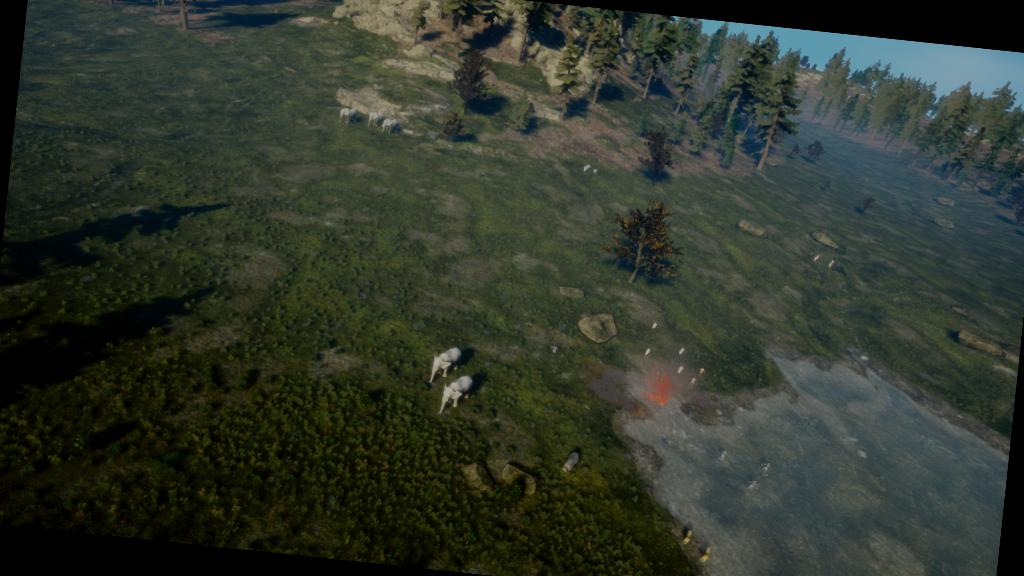Fire: (642, 366, 678, 412)
elephant: (434, 368, 480, 422), (422, 339, 463, 387), (337, 103, 359, 126), (365, 109, 387, 129), (380, 118, 401, 136)
hippopotamus: (552, 444, 584, 480)
human: (758, 458, 778, 479), (714, 446, 732, 466), (744, 474, 760, 496), (546, 341, 560, 357), (688, 375, 699, 391), (697, 365, 708, 377)
lion: (695, 542, 714, 568), (678, 528, 696, 548)
pig: (672, 364, 688, 380), (642, 345, 652, 358), (652, 319, 660, 332), (679, 346, 687, 356)
smoke: (628, 355, 694, 429)
